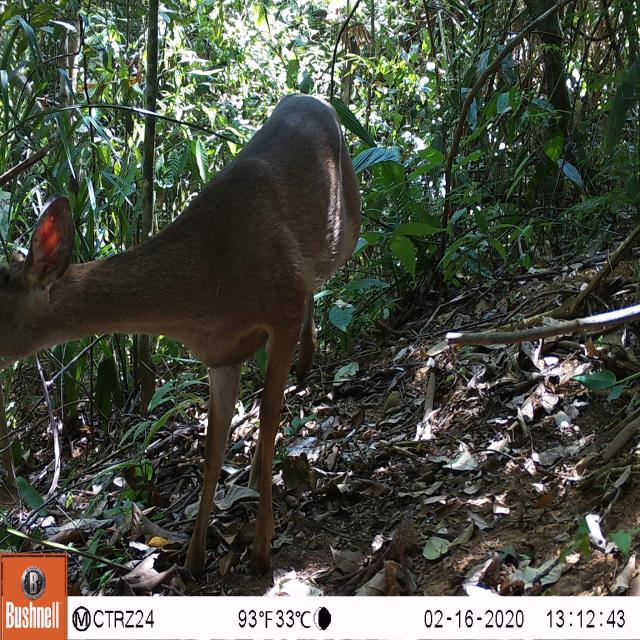White-tailed Deer: (0, 84, 387, 584)
